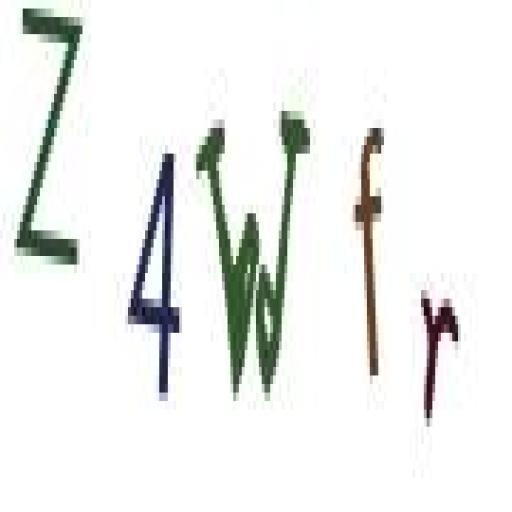4: (122, 128, 186, 411)
W: (198, 98, 311, 404)
Z: (10, 0, 90, 292)
f: (346, 102, 393, 412)
r: (415, 272, 462, 442)
